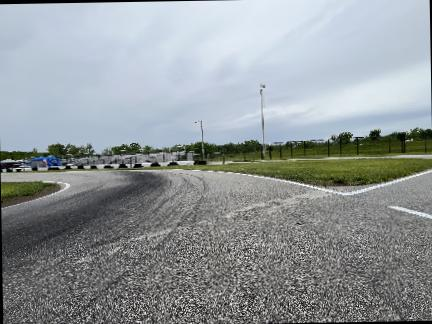Grass: (165, 158, 431, 186), (1, 182, 53, 201)
Lane: (1, 169, 431, 323)
